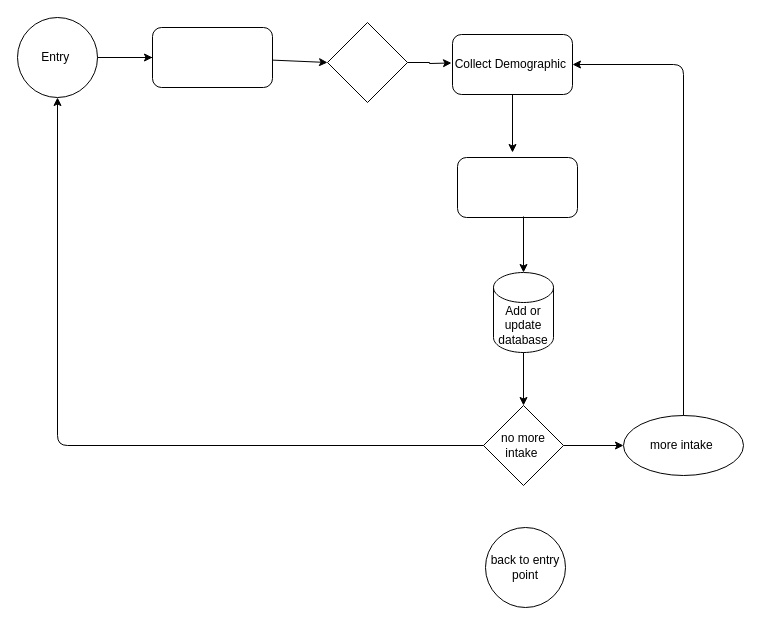
The diagram is 761 pixels wide and 625 high, and some of its shapes have lost their labels. The shapes that lost their labels are listed below. From the top down, each one's box as (x1, y1, x2, y2) in pixels, then its label:
(152, 26, 272, 88): Login or create login credential
(326, 22, 408, 102): login OK
(456, 156, 578, 218): Record service provided and other data
